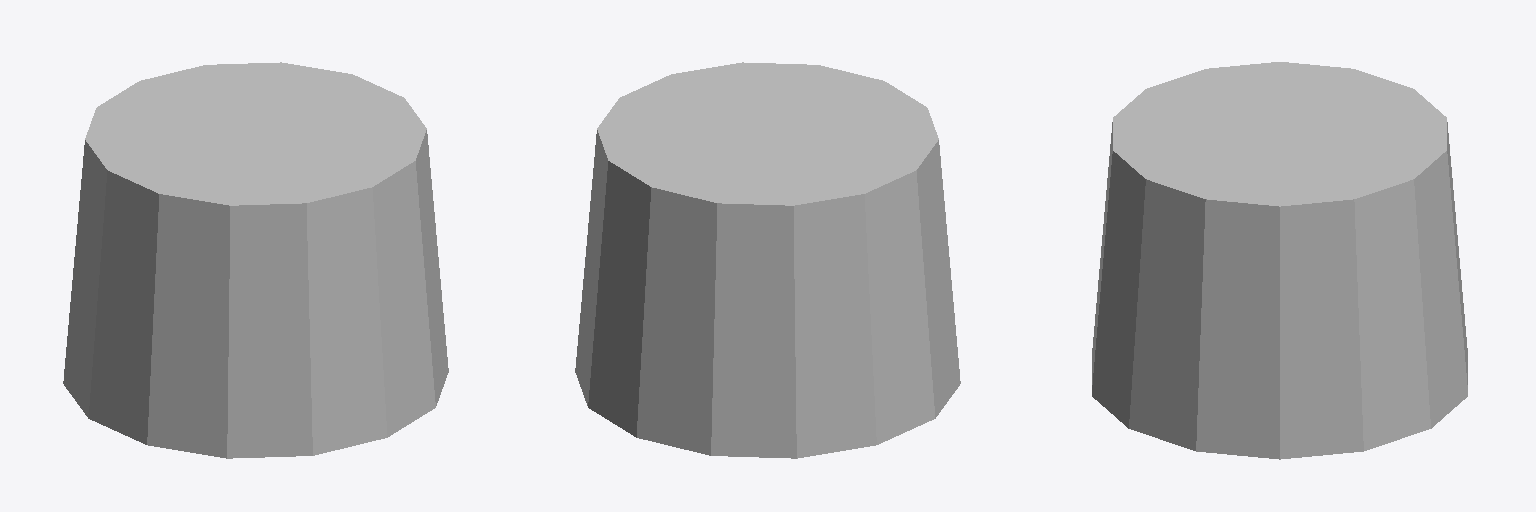
Rendered from 62. Заглушка отверстия фиксатора.obj.
3 views of the same model, side by side, from view 1: azimuth 30°, elevation 25°; view 2: azimuth 150°, elevation 25°; view 3: azimuth 270°, elevation 25° (orthographic).
Parts seen in each view (by area): view 1: Твердое тело1; view 2: Твердое тело1; view 3: Твердое тело1.
Boxes of the visible parts, x1=… form: Твердое тело1: x1=63, y1=62, x2=448, y2=458; Твердое тело1: x1=575, y1=62, x2=960, y2=458; Твердое тело1: x1=1092, y1=62, x2=1467, y2=459.
Size of the model in its own units: 11.5 by 8 by 11.21.